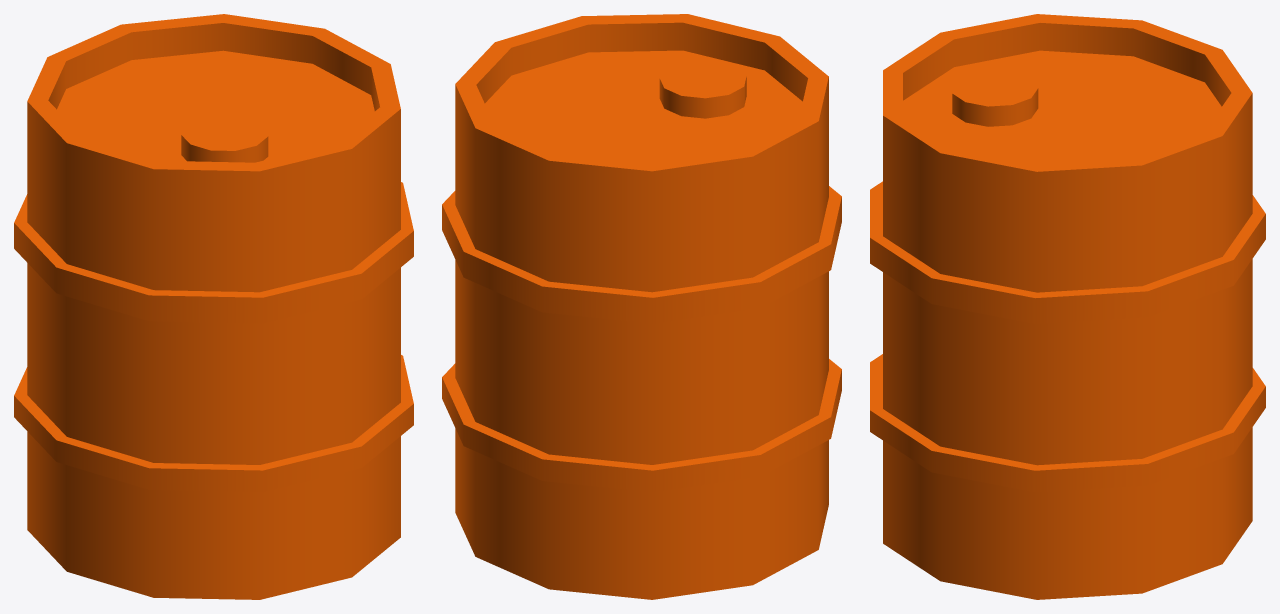
The model's file is Explosive.fbx.
3 views of the same model, side by side, from view 1: azimuth 30°, elevation 25°; view 2: azimuth 150°, elevation 25°; view 3: azimuth 270°, elevation 25° (orthographic).
Visible parts, largest first — view 1: Explosive; view 2: Explosive; view 3: Explosive.
Part boxes in pixels (<box>): Explosive: <box>14,14,413,599</box>; Explosive: <box>442,14,841,599</box>; Explosive: <box>870,14,1265,599</box>.
Bounding box in the file's own units: 146 × 173 × 145.
